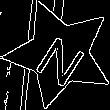N_NE: (28, 22, 91, 86)
